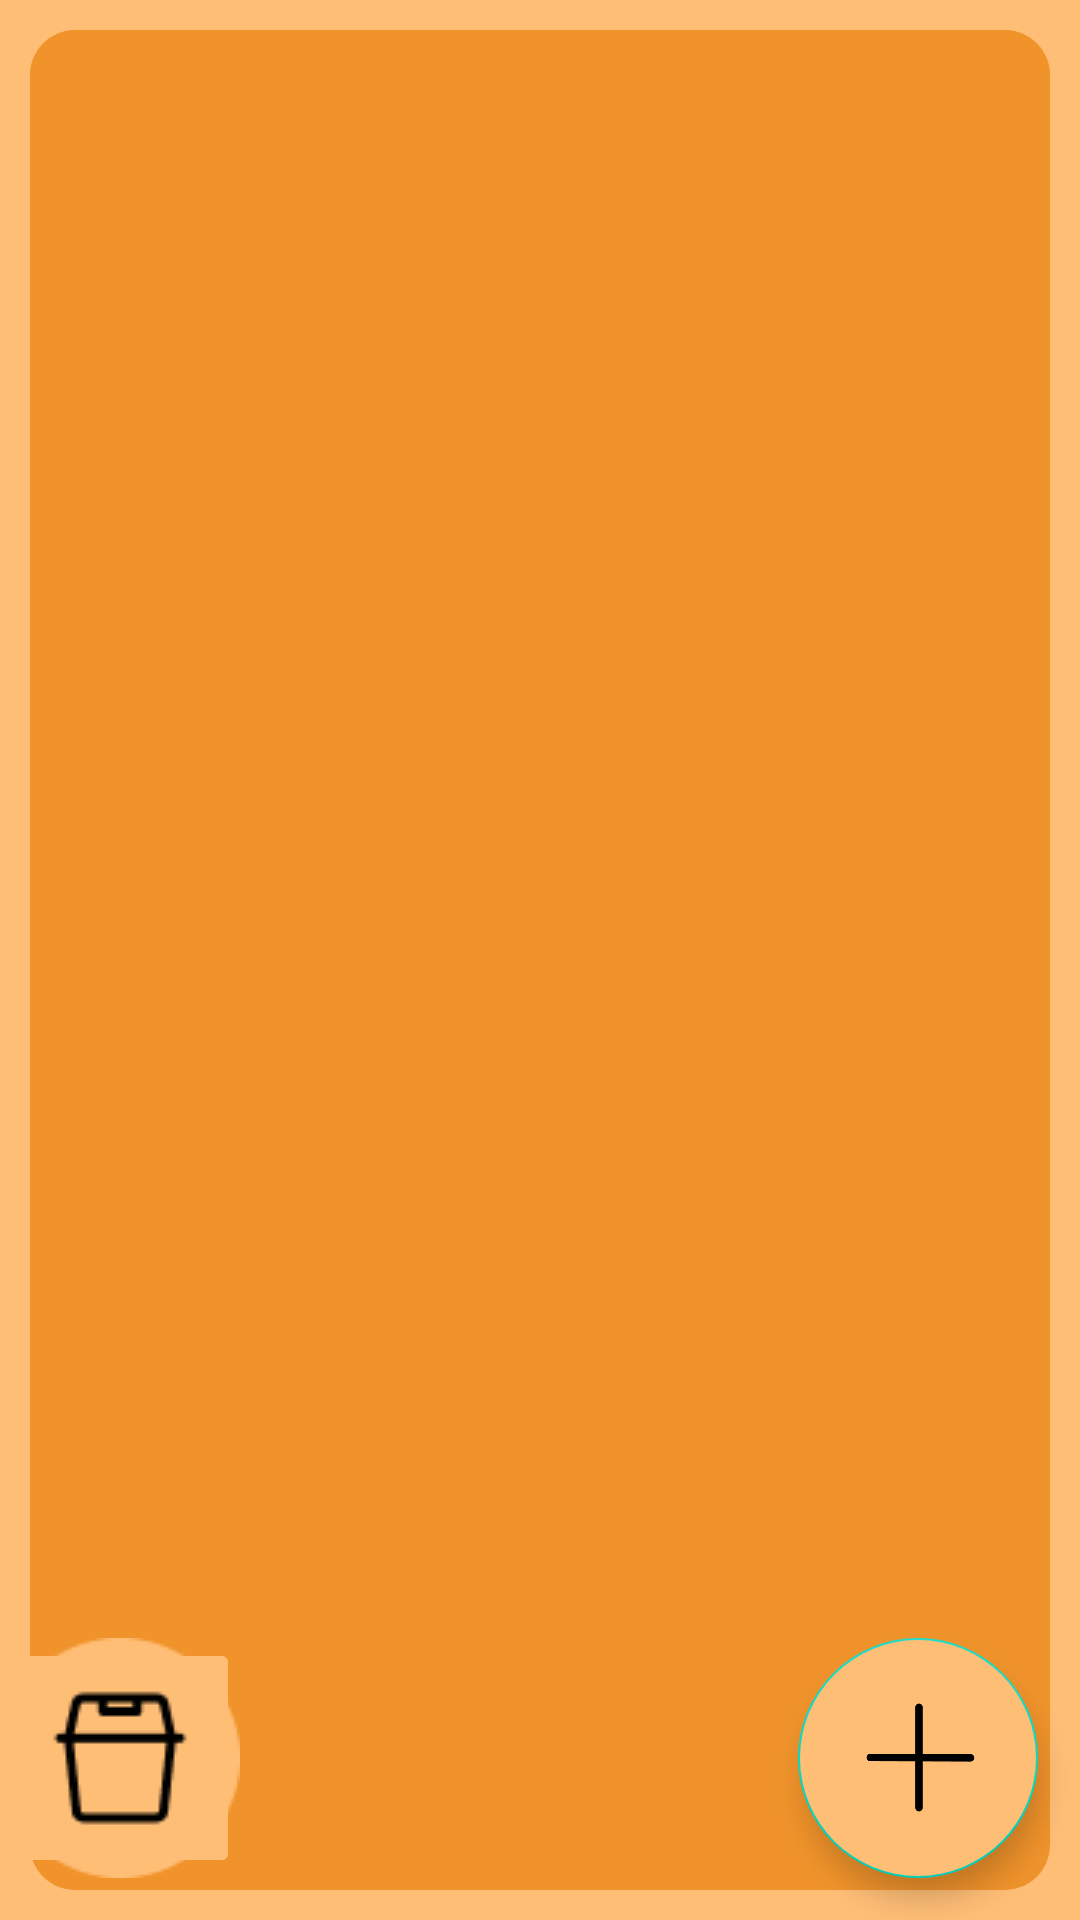

Where icons sit on this 1080w x 1920h app screen, as (x1=x1, y1=y1, x2=x2, y2=y2):
add: (x1=798, y1=1638, x2=1038, y2=1878)
bin: (x1=0, y1=1638, x2=240, y2=1878)
